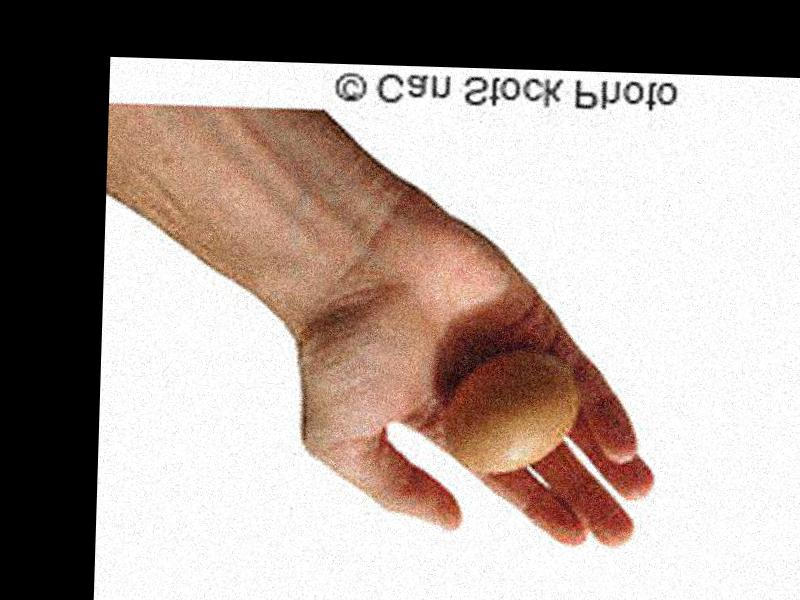Eggs: (448, 350, 581, 470)
